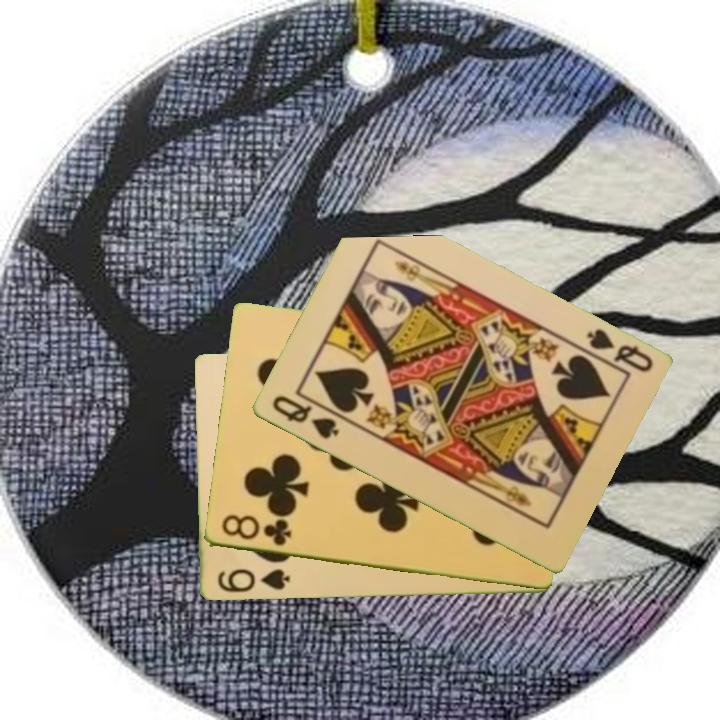6s: (214, 566, 292, 596)
8c: (218, 511, 294, 549)
Qs: (574, 325, 656, 377), (268, 392, 342, 442)
